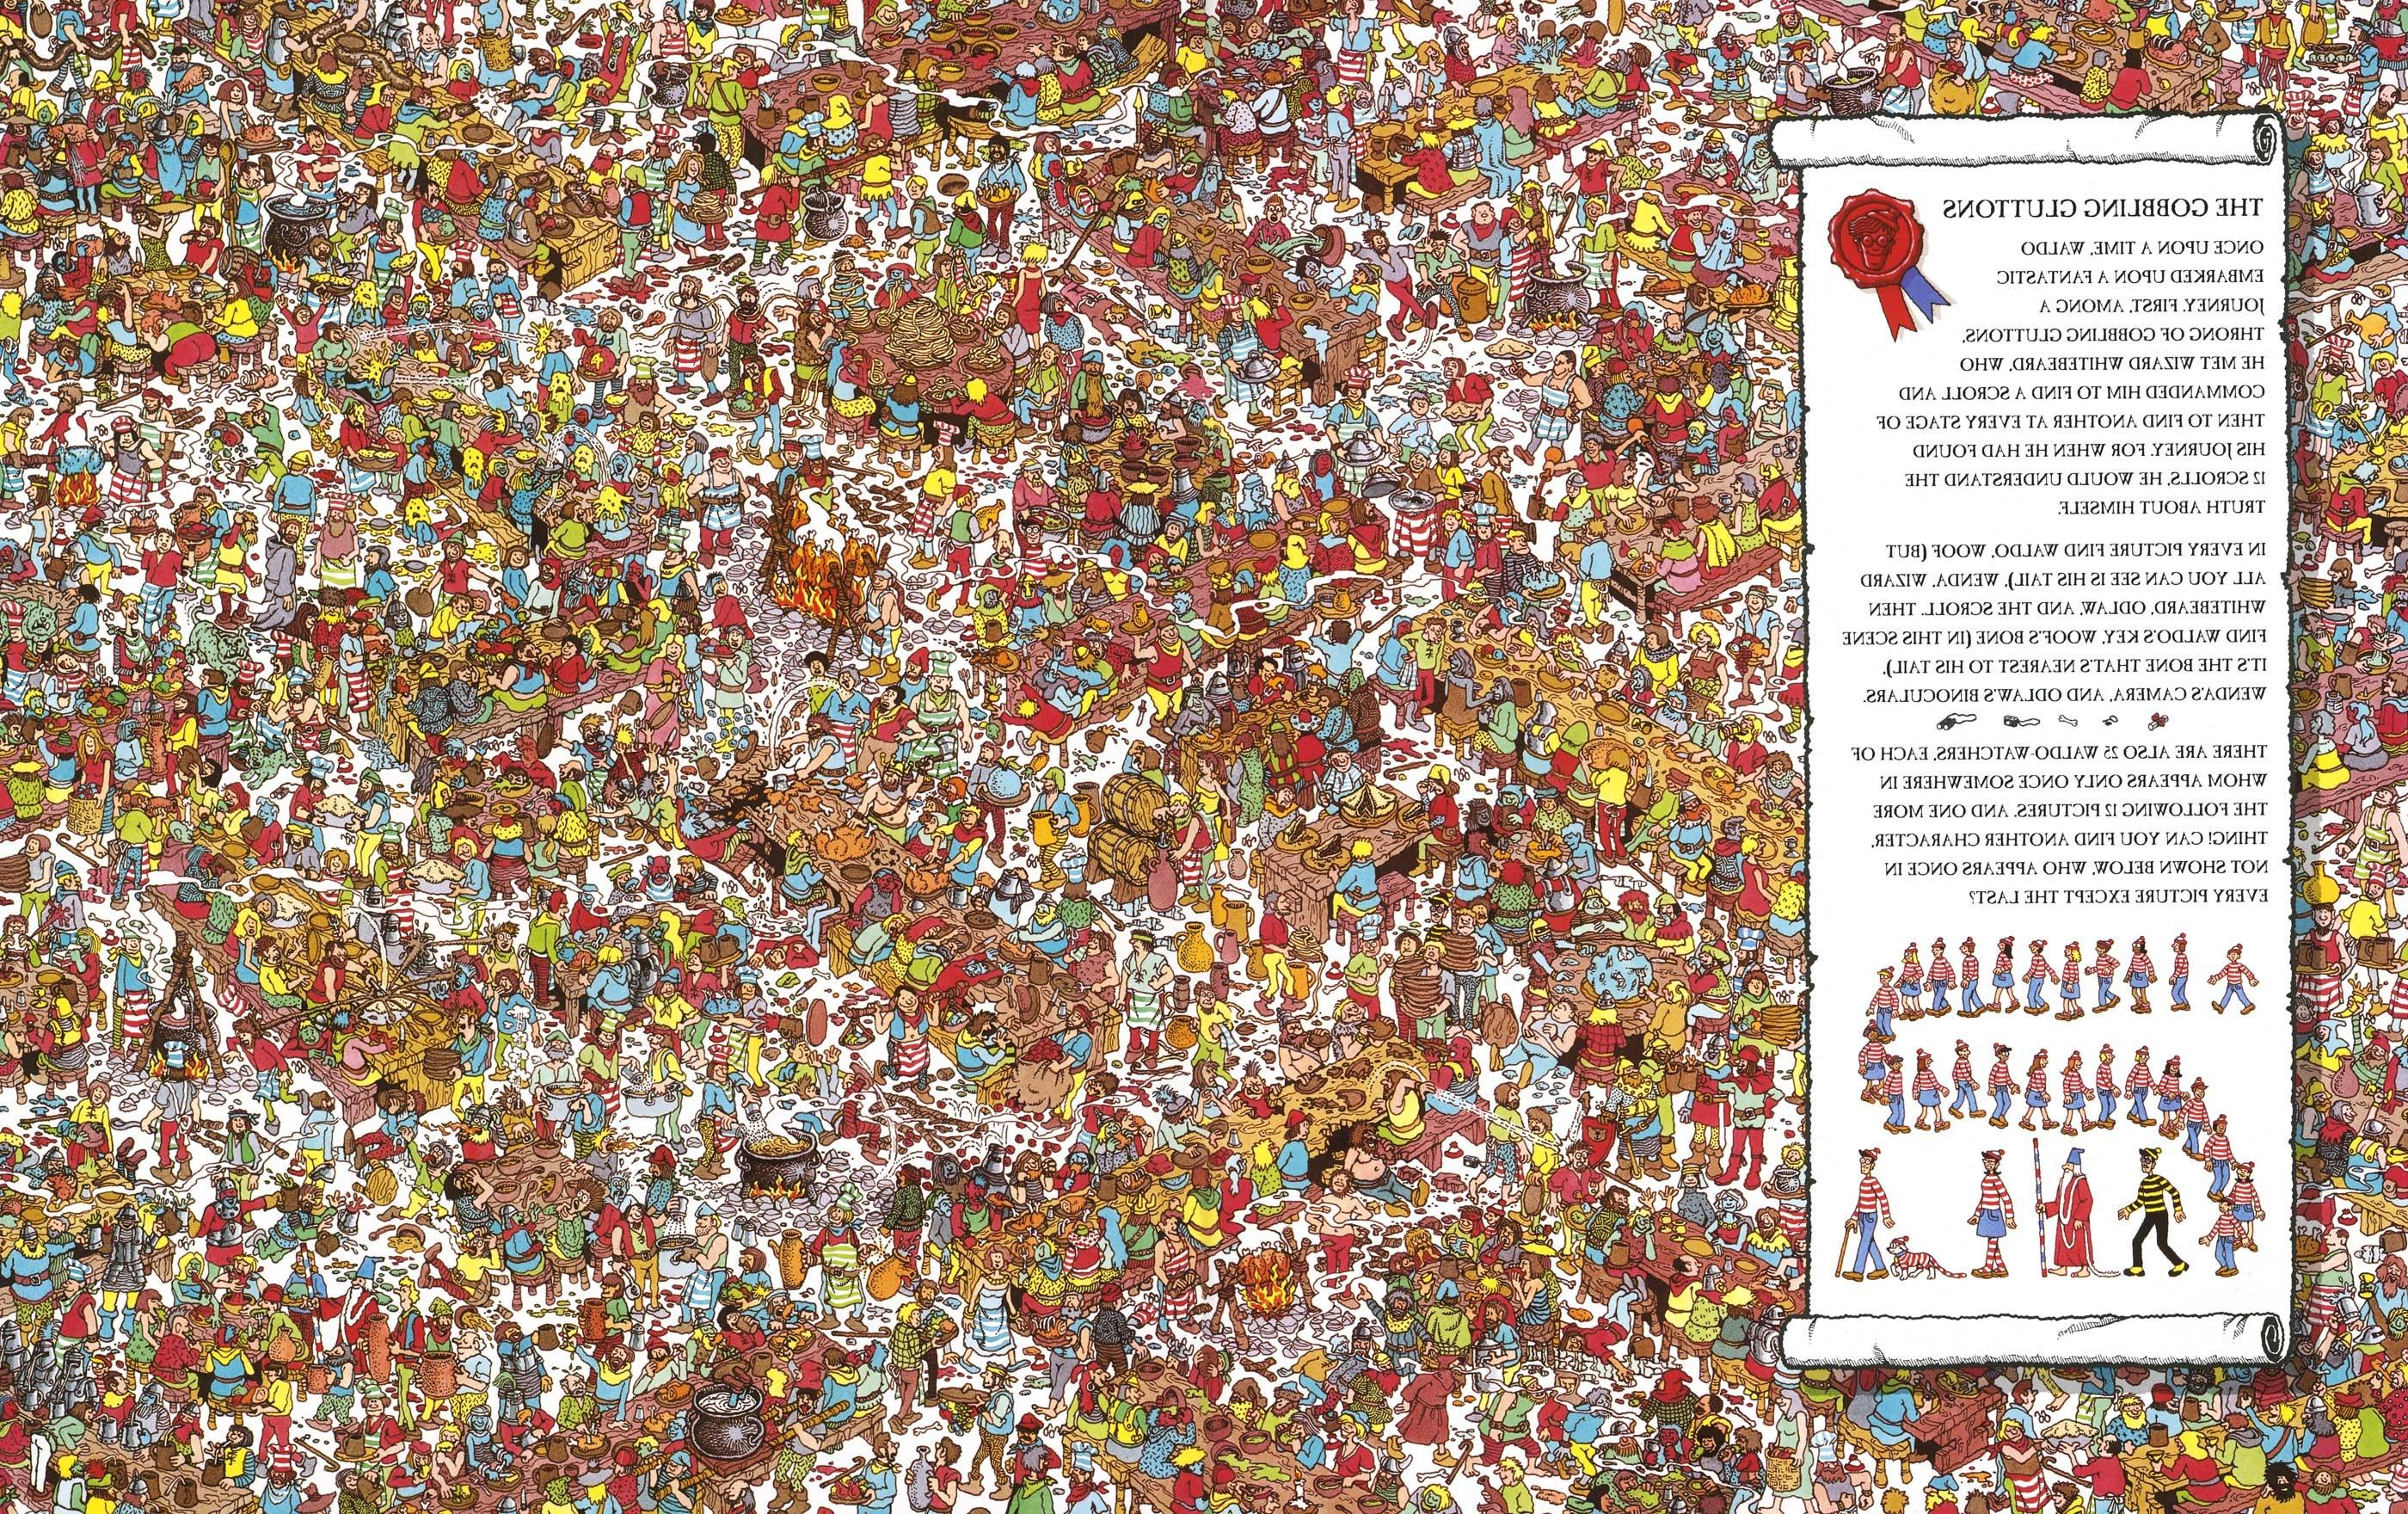waldos: (1017, 508, 1055, 583)
